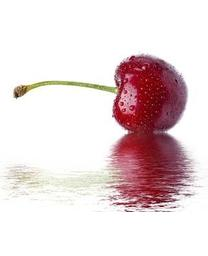cherry: (111, 54, 187, 134)
